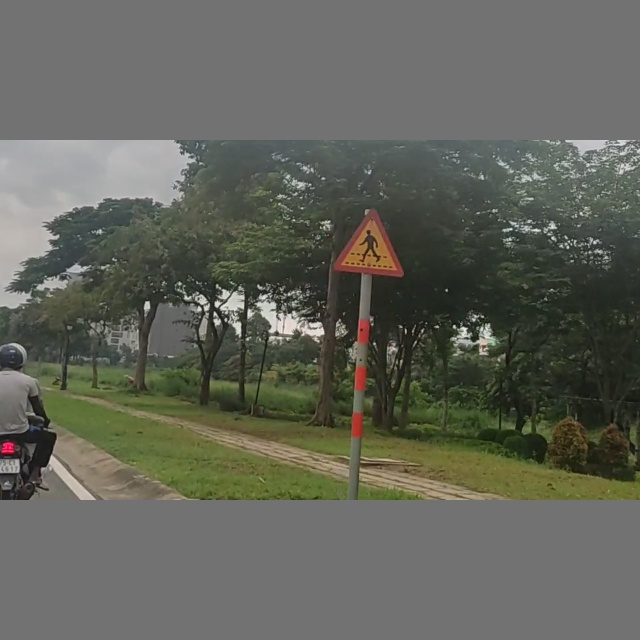W.224: (335, 207, 403, 276)
